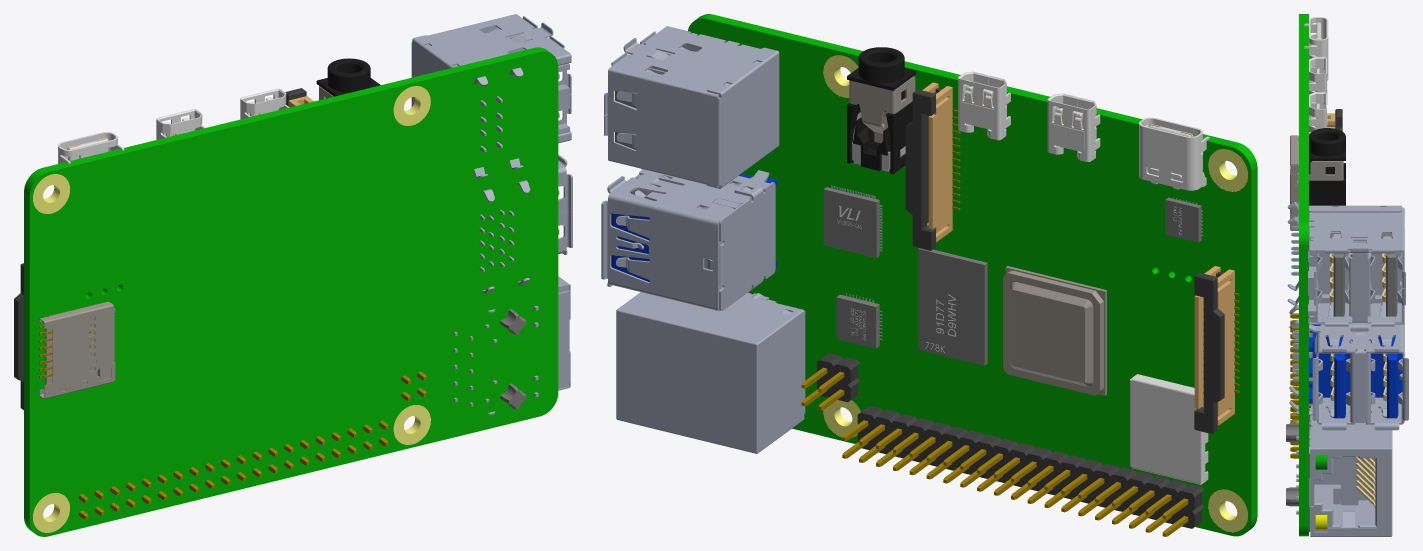
The model's file is raspberrypi.glb.
3 views of the same model, side by side, from view 1: azimuth 30°, elevation 25°; view 2: azimuth 150°, elevation 25°; view 3: azimuth 270°, elevation 25° (orthographic). The views are drawn at different scales.
Size of the model in its own units: 0.089 by 0.0584 by 0.0199.
